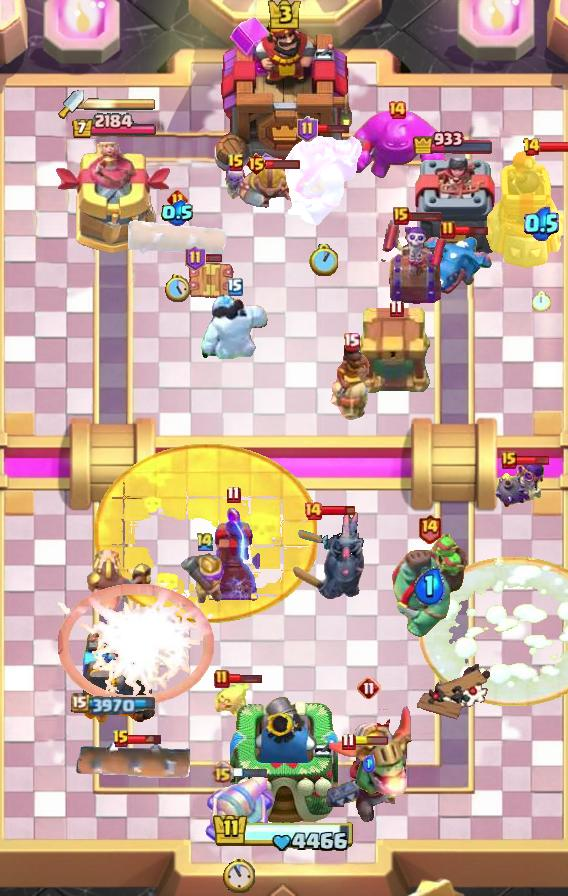bar: (55, 142, 173, 256)
barbarian-evolution: (58, 583, 216, 705)
bat-evolution: (213, 683, 253, 717)
bomb: (357, 307, 435, 395)
bomb-tower: (179, 547, 231, 607)
clock: (212, 812, 356, 854)
clone: (342, 108, 452, 182)
electro-spirit: (413, 567, 445, 605), (524, 207, 559, 241), (161, 200, 194, 226), (363, 756, 375, 773)
elite-barbarian: (328, 340, 374, 420)
elixir: (223, 857, 255, 893), (310, 244, 339, 276), (165, 274, 190, 302), (532, 292, 551, 313)
emote: (232, 765, 269, 778), (454, 223, 490, 236), (320, 503, 355, 516), (407, 210, 443, 222), (128, 733, 163, 745), (314, 122, 350, 133), (265, 159, 301, 170), (515, 455, 550, 466), (229, 672, 264, 683), (538, 141, 568, 153), (353, 736, 389, 746), (205, 253, 224, 263)
freeze: (86, 550, 152, 620)
goblin: (220, 164, 252, 204)
goblin-ball: (494, 457, 546, 511)
goblin-brawler: (187, 258, 237, 304)
goblin-giant: (238, 161, 300, 209)
golemite: (292, 508, 364, 602)
graveyard: (422, 232, 492, 296)
ice-spirit-evolution-symbol: (203, 506, 263, 602)
inferno-dragon: (323, 739, 401, 829)
king-tower: (211, 7, 357, 181), (230, 692, 338, 826)
king-tower-bar: (84, 97, 156, 111)
lava-hound: (387, 534, 471, 640), (282, 133, 364, 229)
minion: (72, 740, 194, 784), (126, 215, 228, 259)
night-witch: (325, 703, 413, 799)
phoenix-big: (420, 557, 568, 707)
phoenix-egg: (94, 444, 318, 623)
queen-tower: (72, 619, 156, 731), (409, 158, 500, 256)
rage: (200, 293, 270, 359)
royal-recruit: (201, 771, 278, 853)
selected: (70, 112, 157, 140), (413, 128, 496, 154), (70, 693, 157, 715)
skeleton-king-bar: (381, 220, 449, 306)
text: (417, 513, 442, 544), (357, 676, 381, 700), (244, 152, 267, 176), (210, 760, 233, 784), (297, 116, 318, 142), (185, 245, 206, 271), (167, 189, 188, 210), (195, 532, 215, 553), (387, 100, 407, 120), (303, 501, 323, 521), (523, 137, 542, 157), (227, 153, 245, 173), (112, 729, 130, 749), (343, 332, 360, 351), (440, 220, 456, 240), (214, 669, 230, 689), (393, 207, 409, 225), (227, 278, 243, 296), (501, 451, 517, 469), (227, 484, 241, 503), (389, 299, 403, 317), (341, 733, 355, 751)
zappy: (482, 150, 568, 270)
